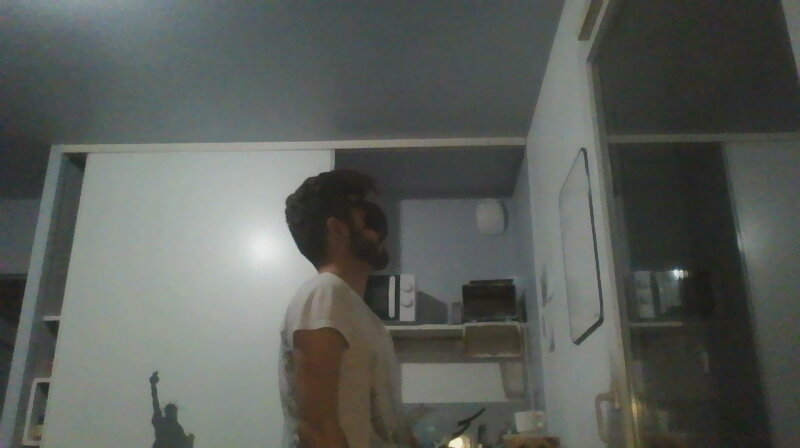with_incorrect_mask: (319, 186, 395, 275)
